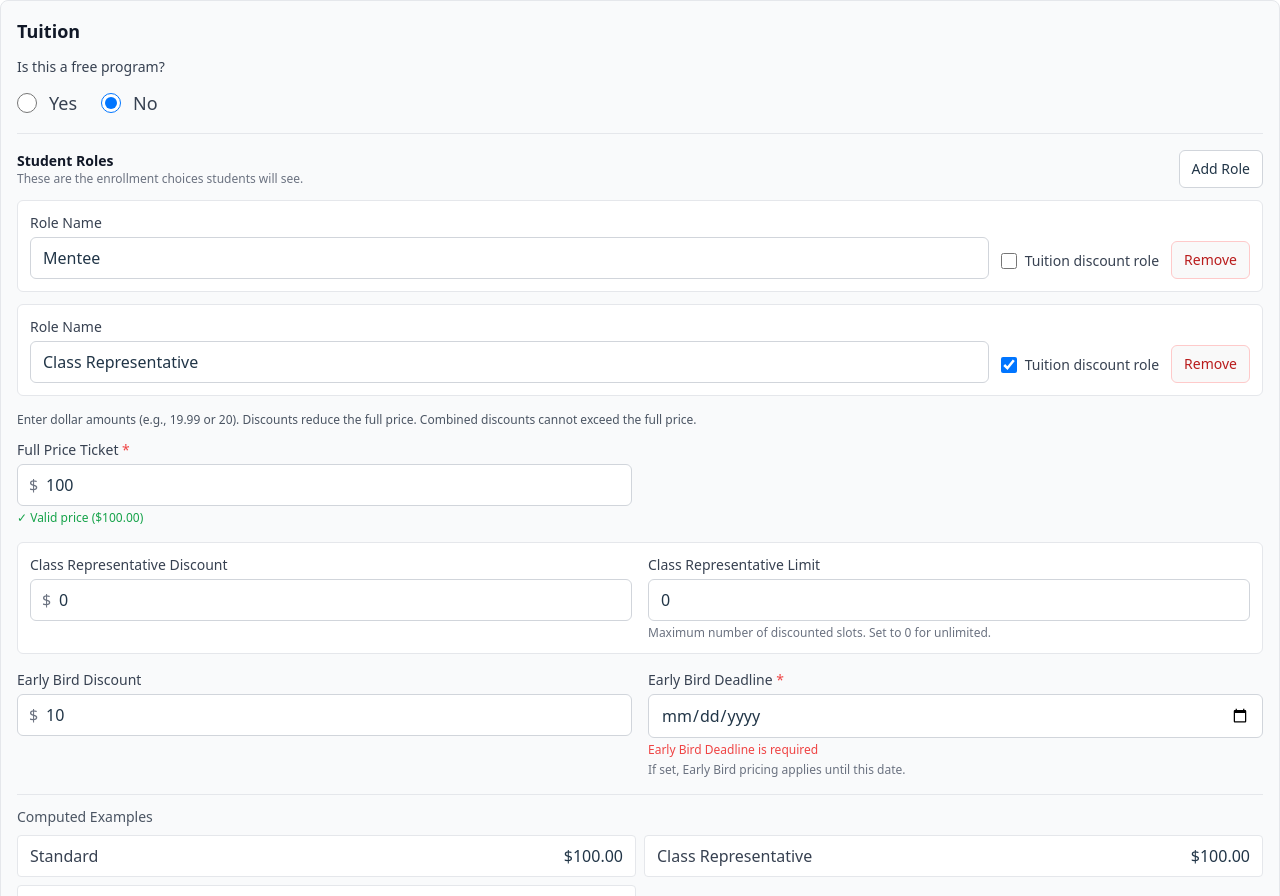
it: EditProgram PricingSection student discount roles › allows multiple tuition discount roles and renders pricing inputs for each
This screenshot has width=1280, height=896.
Click the 1st checkbox labelled "Tuition discount role" at (1009, 261), box [1001,253,1017,269]
(page scrolled)
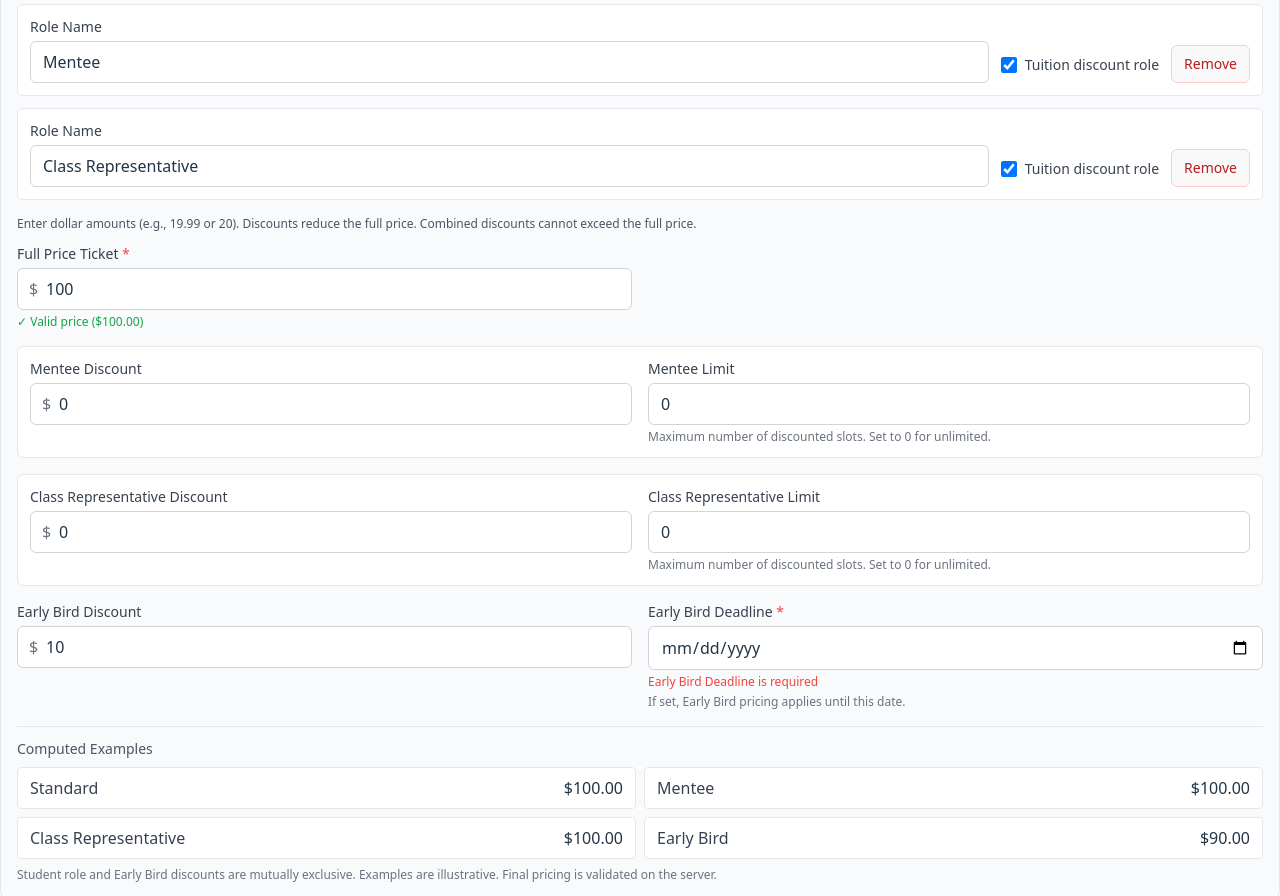
Expected: the 1st checkbox labelled "Tuition discount role" is checked, [1001,57,1017,73]
Expected: the number field labelled "Mentee Discount" is shown, [30,383,632,425]
Expected: the text "Mentee" is shown, [657,776,714,800]
